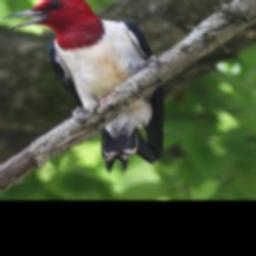Woodpecker: (0, 0, 172, 175)
